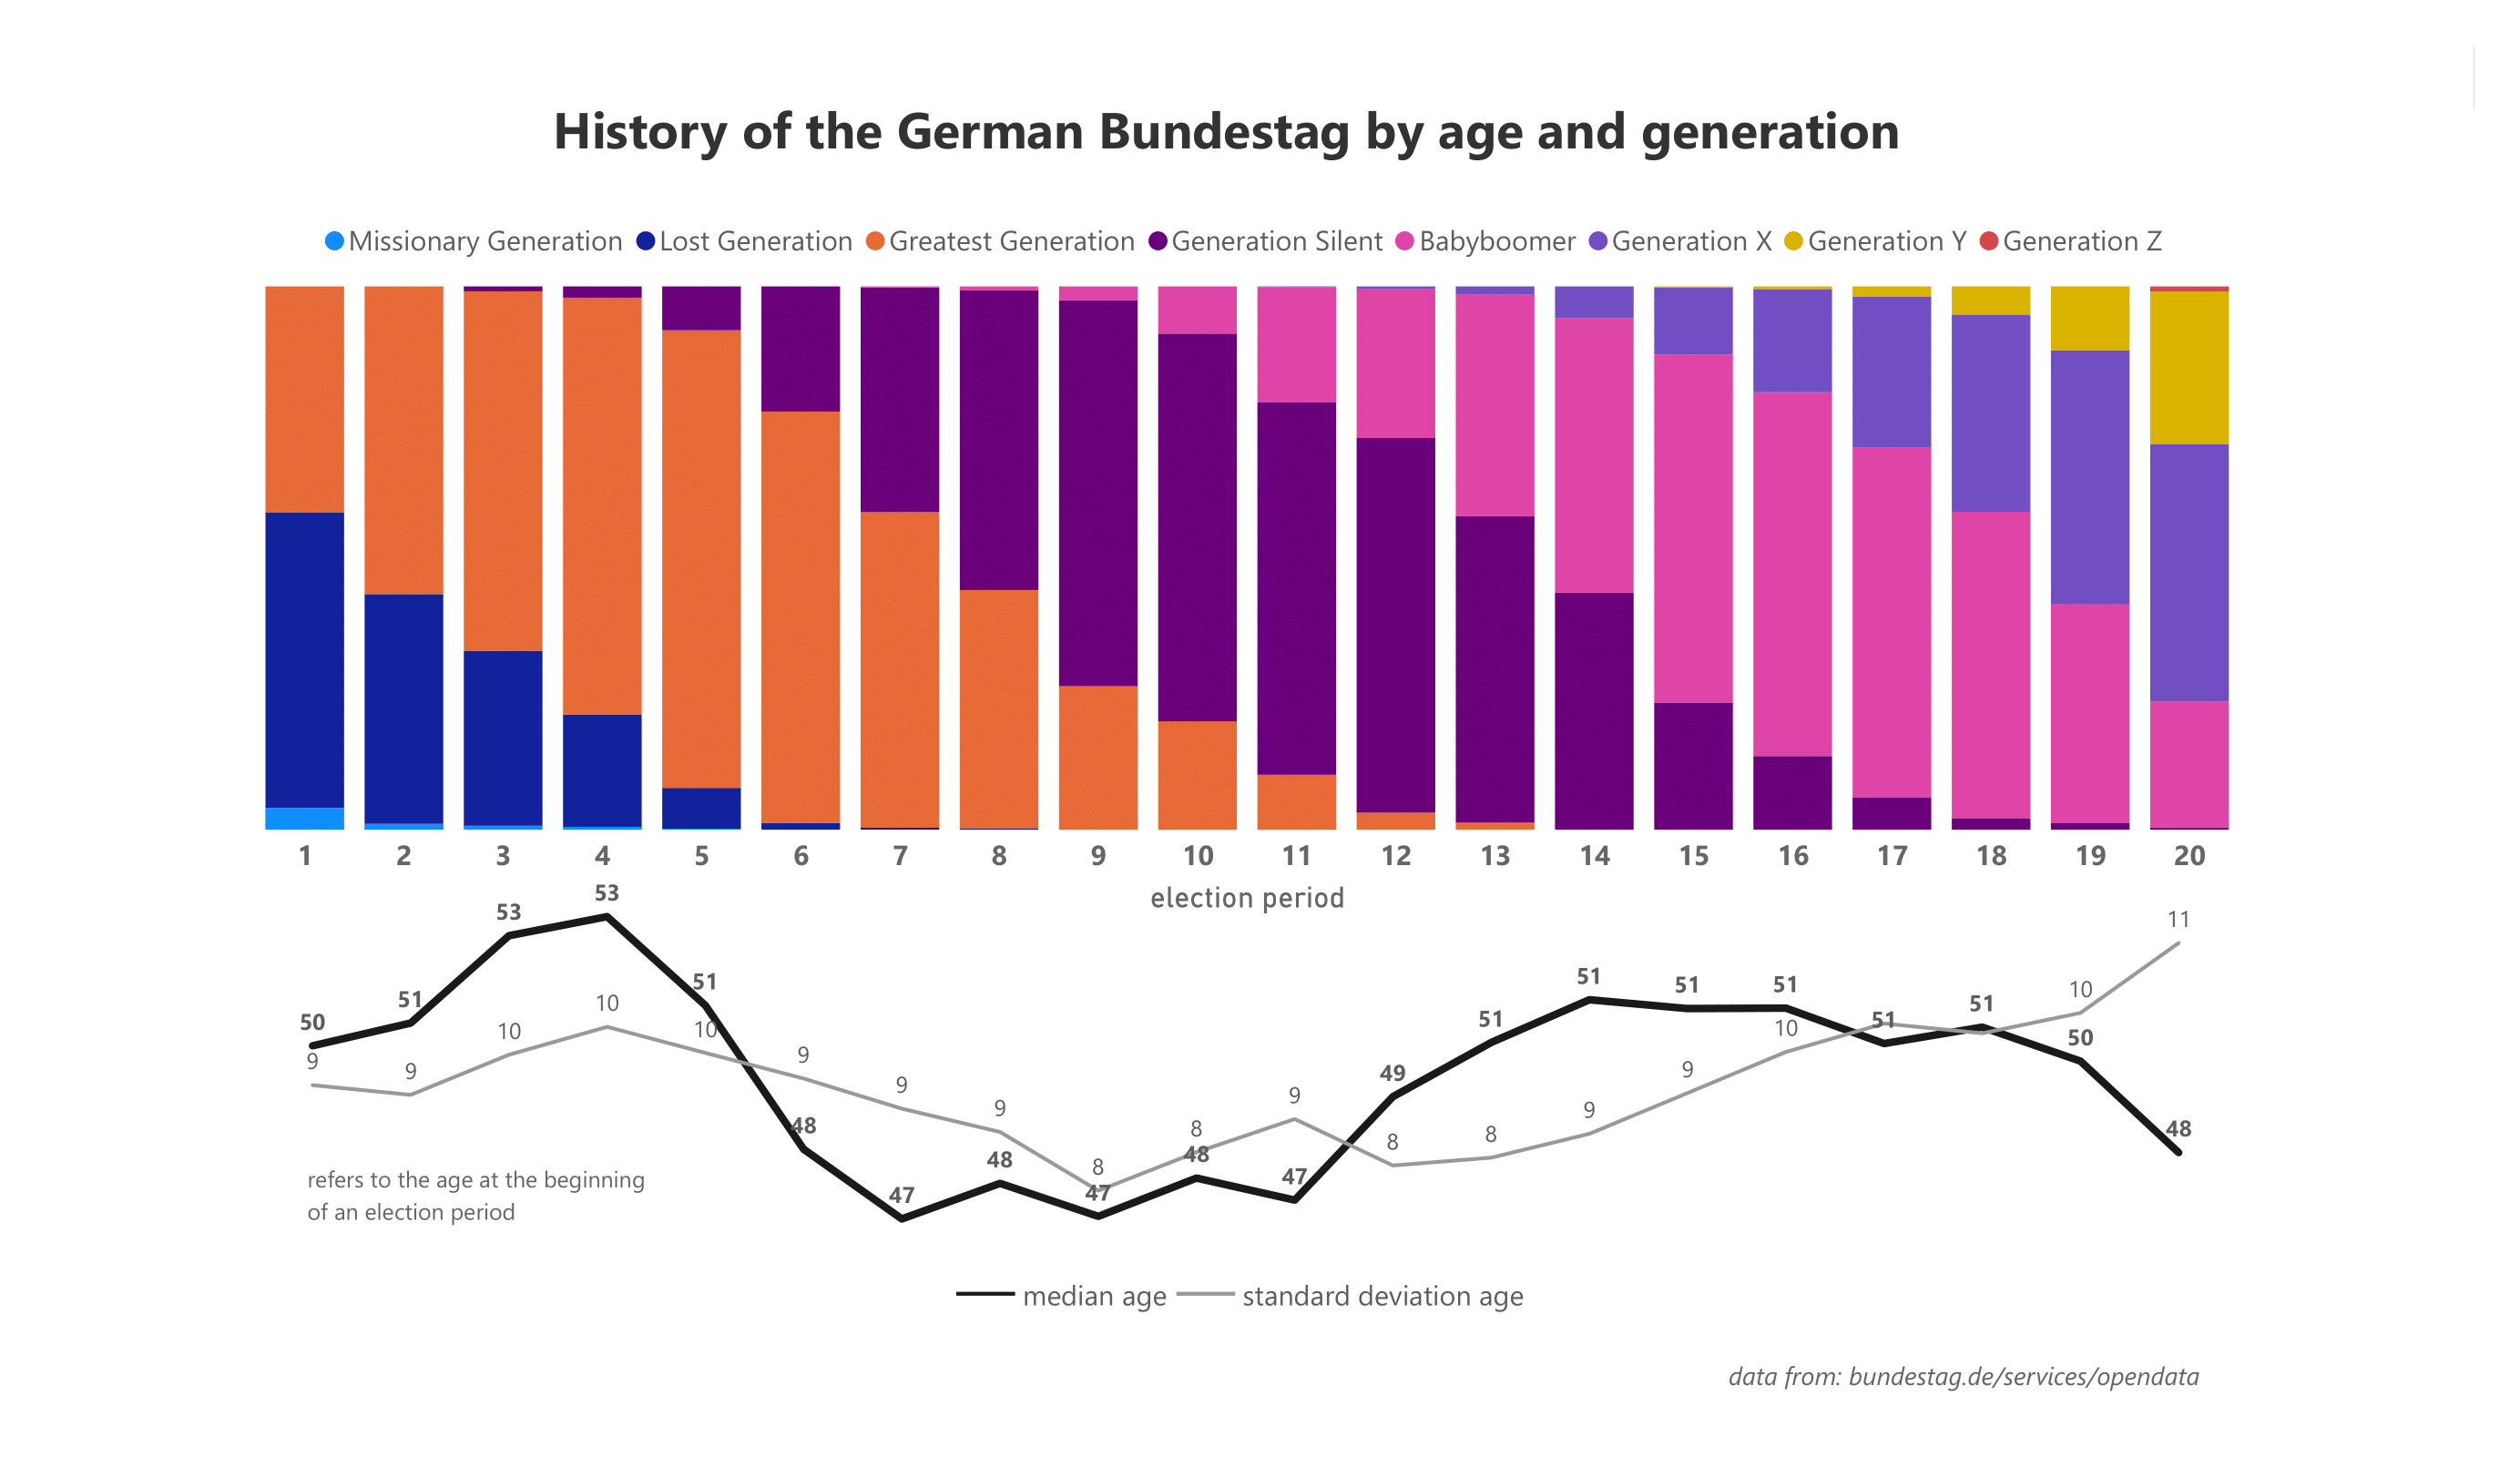

The page's visual inventory and layout, read from the dashboard file:
{"tool":"powerbi","page":{"name":"Generations and Age","canvas":[1280,720],"ordinal":0},"visuals":[{"type":"hundredPercentStackedColumnChart","title":"Share of generations per election period","fields":{"Category":["public dim_elec_periods.election_period"],"Y":["CountNonNull(public fct_mdb.id)"],"Series":["public dim_person.Generation"]},"box":[90,81.7,1086.7,380],"z":0},{"type":"lineChart","title":"Median age per election period","fields":{"Y":["Median(public fct_mdb.Age_electionperiod)"],"Y2":["StandardDeviation(public fct_mdb.Age_electionperiod)"],"Category":["public dim_elec_periods.election_period"]},"box":[115,423.3,1035,255],"z":1000},{"type":"textbox","box":[105,20,1035,55],"z":2000},{"type":"textbox","box":[881.7,686.7,288.3,28.3],"z":3000},{"type":"textbox","box":[133.3,583.3,191.7,66.7],"z":4000}]}

Visuals, with their boxes in screenshot pixels (x1, y1, x2, y2):
"Share of generations per election period" hundredPercentStackedColumnChart: left=217, top=200, right=2279, bottom=922
"Median age per election period" lineChart: left=264, top=849, right=2228, bottom=1332
textbox: left=245, top=84, right=2209, bottom=188
textbox: left=1719, top=1349, right=2266, bottom=1402
textbox: left=299, top=1152, right=662, bottom=1279
